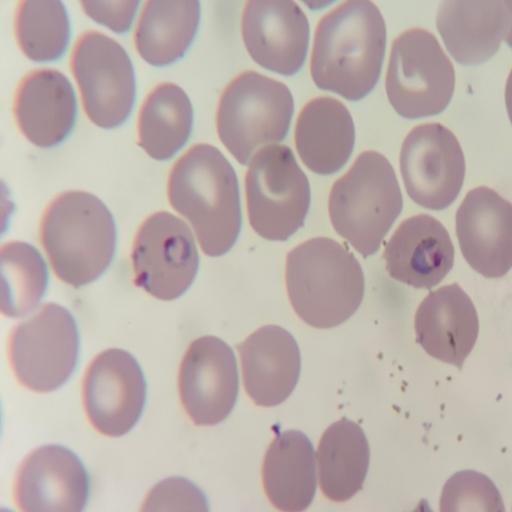Infected: (133, 211, 201, 302), (386, 215, 456, 287)
Uninfected: (166, 144, 241, 255), (329, 151, 402, 256), (309, 1, 385, 100), (40, 190, 117, 285), (216, 73, 296, 164), (287, 238, 364, 329), (70, 30, 136, 131), (384, 29, 457, 118), (9, 304, 79, 390), (244, 146, 310, 237), (400, 121, 466, 210), (238, 326, 304, 410), (83, 348, 146, 436), (413, 287, 481, 368), (451, 185, 512, 275), (11, 444, 91, 512), (178, 335, 236, 428), (240, 0, 307, 73), (16, 68, 76, 148), (296, 98, 356, 175), (137, 83, 195, 161), (264, 429, 317, 512), (317, 418, 369, 498), (0, 240, 50, 316), (16, 0, 66, 60)
